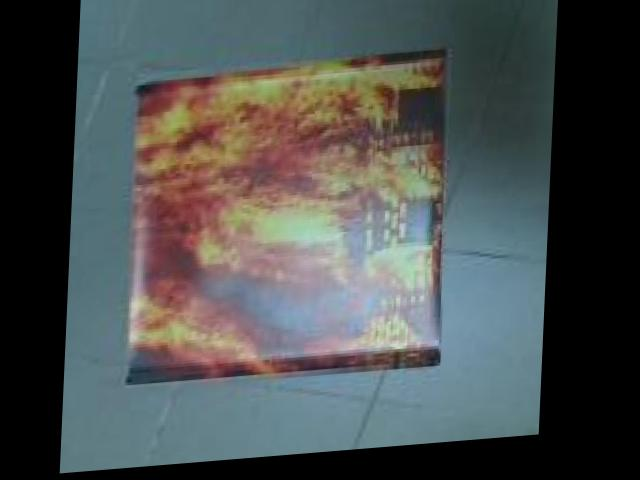fire-poster: (121, 54, 457, 397)
